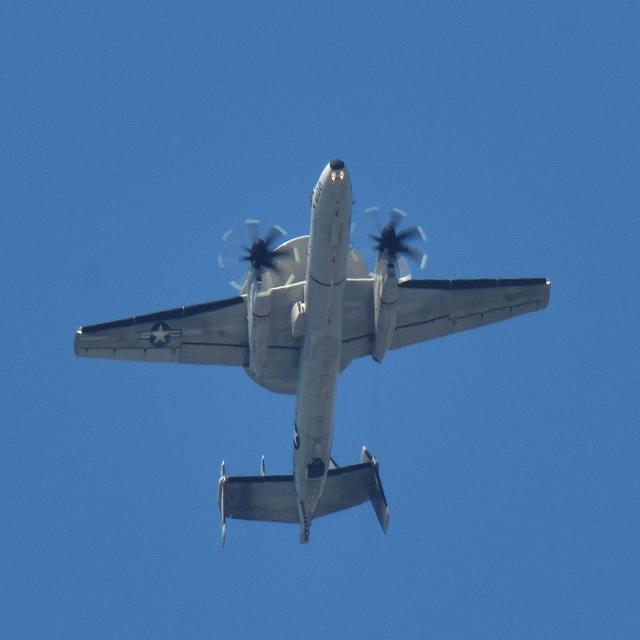MIL_Plane: (74, 157, 552, 550)
